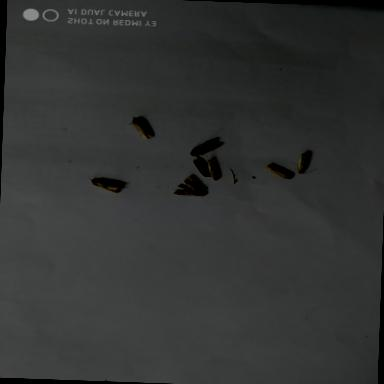pbw: (85, 174, 126, 195), (172, 175, 207, 198), (187, 136, 222, 158), (126, 115, 154, 140), (291, 152, 318, 176), (262, 162, 294, 180), (191, 156, 212, 180), (204, 153, 221, 181)
